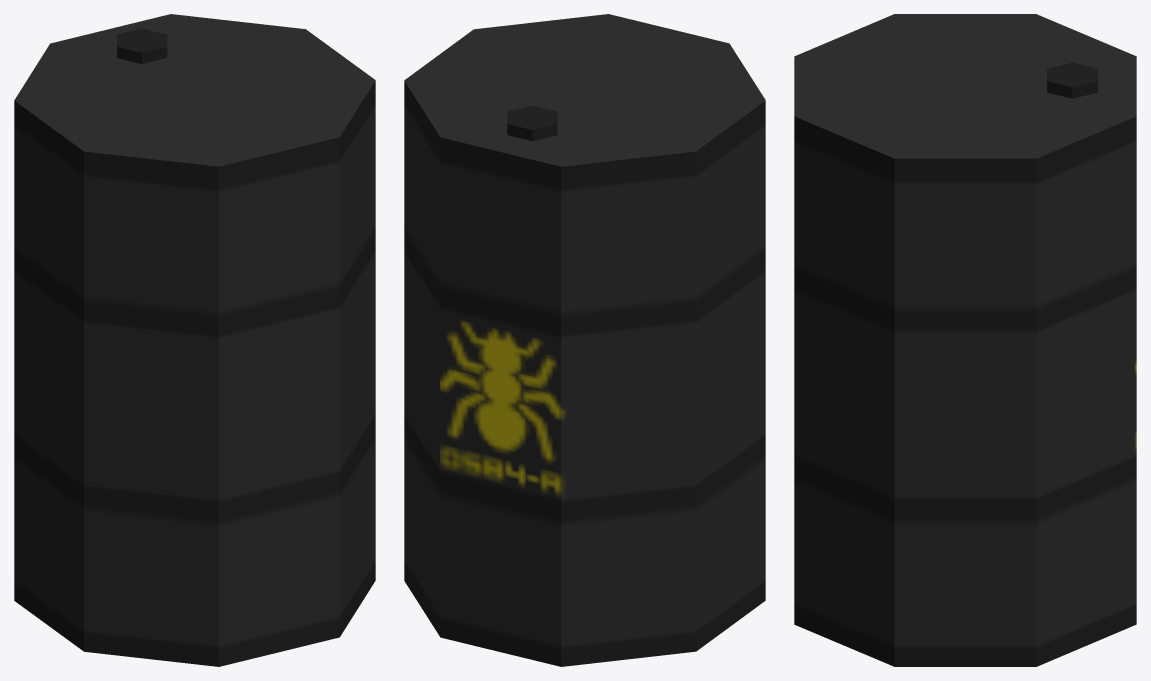
The model's file is west_zs09.FBX.
The picture shows the model from 3 angles, left to right: view 1: azimuth 30°, elevation 25°; view 2: azimuth 150°, elevation 25°; view 3: azimuth 270°, elevation 25°; orthographic projection.
Parts seen in each view (by area): view 1: west_zs09; view 2: west_zs09; view 3: west_zs09.
Part boxes in pixels (x1=…): west_zs09: x1=14, y1=14, x2=375, y2=666; west_zs09: x1=404, y1=14, x2=765, y2=666; west_zs09: x1=794, y1=14, x2=1136, y2=666.
Bounding box in the file's own units: 274 × 459 × 274.
